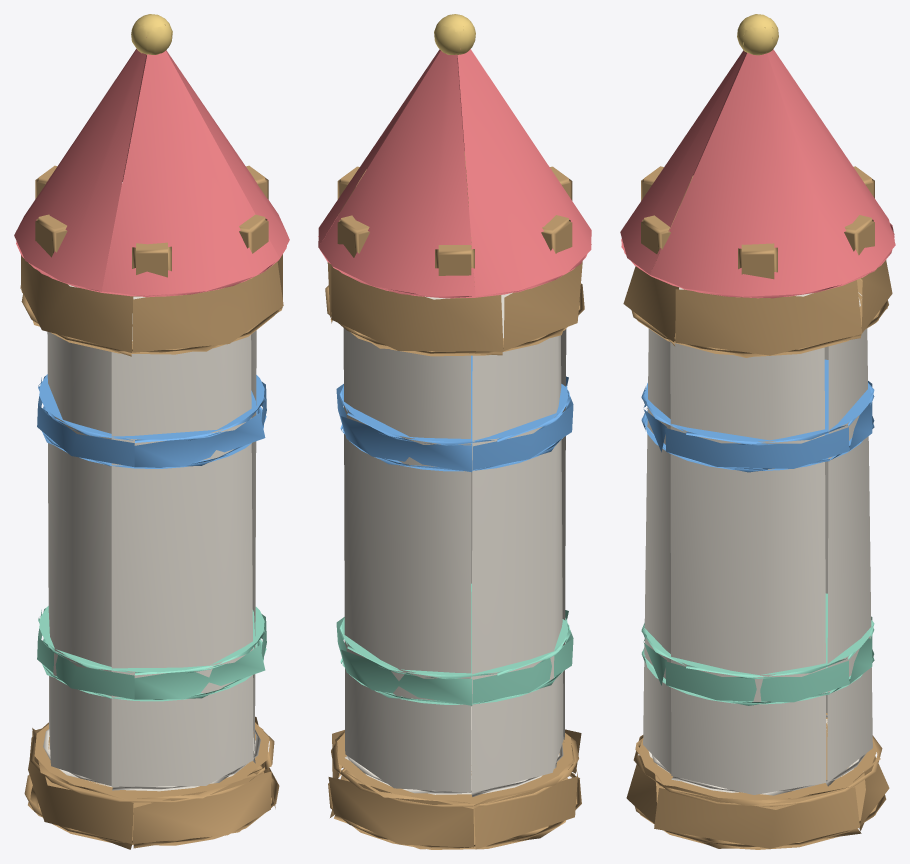
The model's file is castle_tower_round.glb.
3 views of the same model, side by side, from view 1: azimuth 30°, elevation 25°; view 2: azimuth 150°, elevation 25°; view 3: azimuth 270°, elevation 25° (orthographic).
Visible parts, largest first — view 1: Body, Roof, Base, TopGallery, Band_4.5, Band_1.8, Finial, Tooth_4, Tooth_3, Tooth_5; view 2: Body, Roof, Base, TopGallery, Band_4.5, Band_1.8, Finial, Tooth_2, Tooth_1, Tooth_3; view 3: Body, Roof, Base, TopGallery, Band_4.5, Band_1.8, Finial, Tooth_0, Tooth_1, Tooth_5.
Boxes of the visible parts, x1,y1,x2,y2 form: Body: [43, 284, 260, 791]; Roof: [14, 37, 289, 297]; Base: [24, 716, 279, 849]; TopGallery: [20, 254, 283, 356]; Band_4.5: [37, 374, 266, 468]; Band_1.8: [37, 606, 266, 701]; Finial: [131, 14, 172, 54]; Tooth_4: [132, 242, 171, 277]; Tooth_3: [35, 214, 67, 257]; Tooth_5: [239, 214, 268, 253]; Body: [343, 292, 566, 796]; Roof: [318, 49, 591, 298]; Base: [328, 729, 581, 849]; TopGallery: [325, 261, 584, 356]; Band_4.5: [336, 355, 573, 472]; Band_1.8: [336, 583, 573, 705]; Finial: [434, 14, 475, 55]; Tooth_2: [435, 237, 474, 275]; Tooth_1: [337, 215, 369, 257]; Tooth_3: [541, 215, 572, 253]; Body: [643, 287, 872, 795]; Roof: [620, 49, 895, 298]; Base: [626, 713, 889, 849]; TopGallery: [623, 260, 892, 357]; Band_4.5: [641, 359, 874, 472]; Band_1.8: [641, 593, 874, 705]; Finial: [737, 14, 778, 55]; Tooth_0: [738, 243, 777, 279]; Tooth_1: [844, 215, 874, 255]; Tooth_5: [641, 211, 677, 260].
Bounding box in the file's own units: 2.89 × 9.04 × 2.89.
